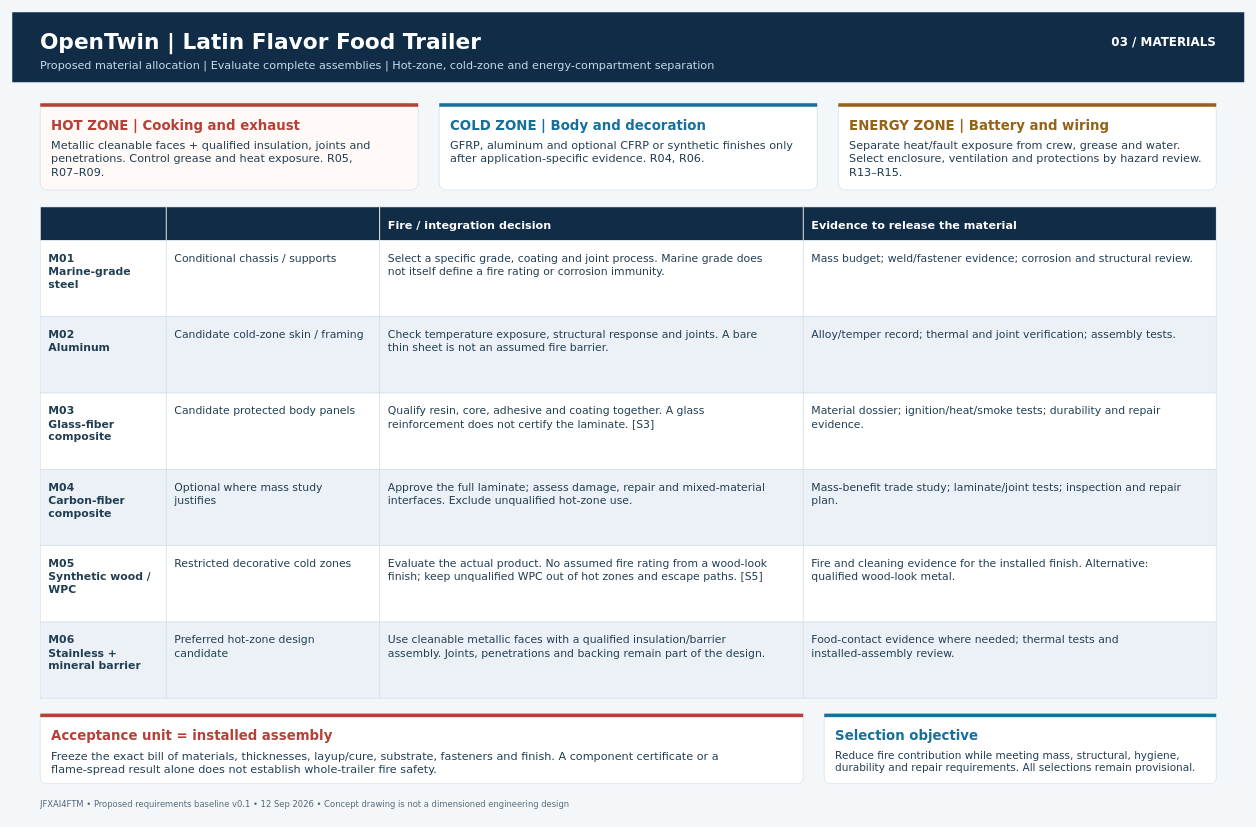
Some shapes in this 1256 by 827 pixel diagram are drawn without their labels. The shapes that lost their labels are listed below. From the top down, each one's box as (x1, y1, x2, y2) in pixels, then its label:
(40, 206, 166, 240): Material
(166, 206, 380, 240): Proposed allocation
